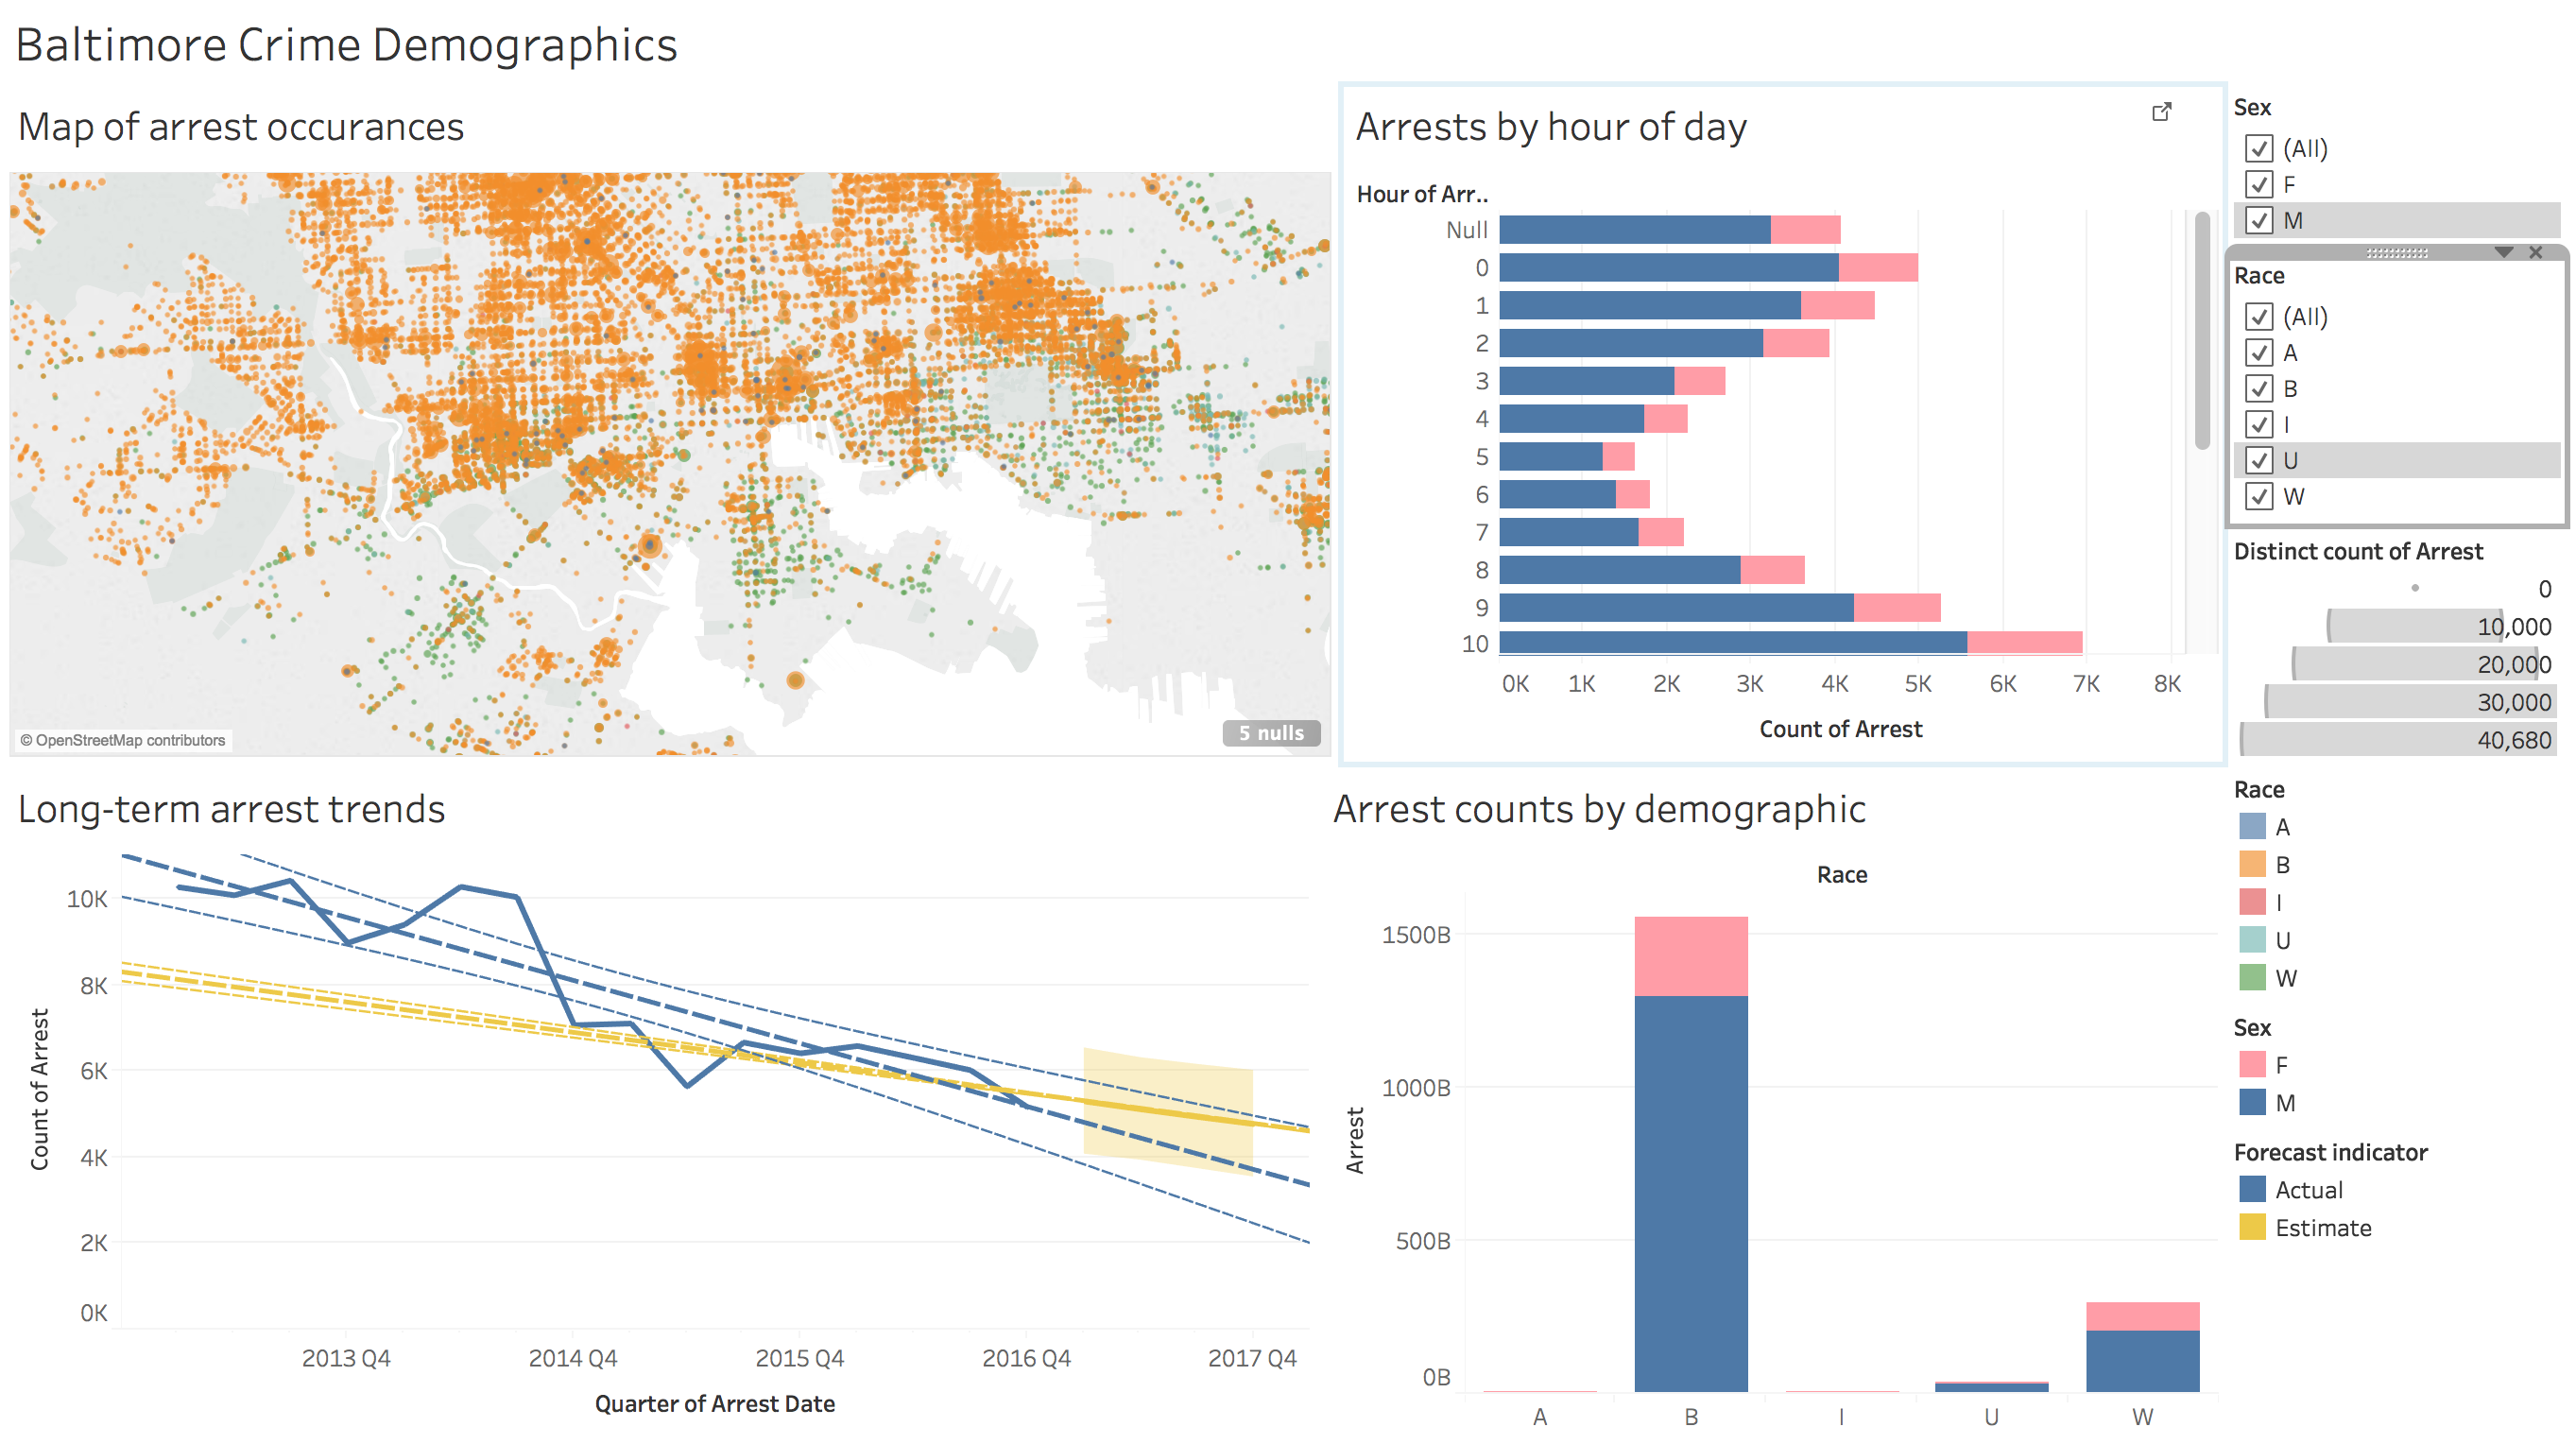

Layout of this report page (visuals, bound fields, positions):
{"tool":"tableau","page":{"name":"Dashboard 1","canvas":[1366,768],"ordinal":0},"visuals":[{"type":"title","box":[0,0,1366,46]},{"type":"worksheet","title":"map","mark":"Automatic","rows":["latitude"],"cols":["longitude"],"box":[0,46,712,361]},{"type":"worksheet","title":"time","mark":"Bar","rows":["ArrestTime"],"cols":["Arrest"],"box":[712,46,469,361]},{"type":"filter","title":"map","param":"[federated.0oz0ft30py9piv1g1gd71025xljb].[none:Sex:nk]","box":[1181,46,185,89]},{"type":"filter","title":"map","param":"[federated.0oz0ft30py9piv1g1gd71025xljb].[none:Race:nk]","box":[1181,135,185,146]},{"type":"legend","title":"map","param":"[federated.0oz0ft30py9piv1g1gd71025xljb].[ctd:Arrest:qk]","box":[1181,281,185,126]},{"type":"worksheet","title":"year-to-year","mark":"Automatic","rows":["Arrest"],"cols":["ArrestDate"],"box":[0,407,699.8,361]},{"type":"worksheet","title":"demographic","mark":"Automatic","rows":["Arrest"],"cols":["Race"],"box":[699.8,407,481.2,361]},{"type":"legend","title":"map","param":"[federated.0oz0ft30py9piv1g1gd71025xljb].[none:Race:nk]","box":[1181,407,185,126]},{"type":"legend","title":"demographic","param":"[federated.0oz0ft30py9piv1g1gd71025xljb].[none:Sex:nk]","box":[1181,533,185,66]},{"type":"legend","title":"year-to-year","param":"[federated.0oz0ft30py9piv1g1gd71025xljb].[none:Forecast Indicator:nk]","box":[1181,599,185,66]}]}

Visuals, with their boxes in screenshot pixels (x1, y1, x2, y2), scaled from the page's 1366x768 canvas onto the 2576x1444 screenshot:
title: {"left": 0, "top": 0, "right": 2575, "bottom": 87}
"map" worksheet: {"left": 0, "top": 87, "right": 1343, "bottom": 765}
"time" worksheet (Bar marks): {"left": 1343, "top": 87, "right": 2227, "bottom": 765}
"map" filter: {"left": 2227, "top": 87, "right": 2575, "bottom": 254}
"map" filter: {"left": 2227, "top": 254, "right": 2575, "bottom": 528}
"map" legend: {"left": 2227, "top": 528, "right": 2575, "bottom": 765}
"year-to-year" worksheet: {"left": 0, "top": 765, "right": 1320, "bottom": 1443}
"demographic" worksheet: {"left": 1320, "top": 765, "right": 2227, "bottom": 1443}
"map" legend: {"left": 2227, "top": 765, "right": 2575, "bottom": 1002}
"demographic" legend: {"left": 2227, "top": 1002, "right": 2575, "bottom": 1126}
"year-to-year" legend: {"left": 2227, "top": 1126, "right": 2575, "bottom": 1250}
